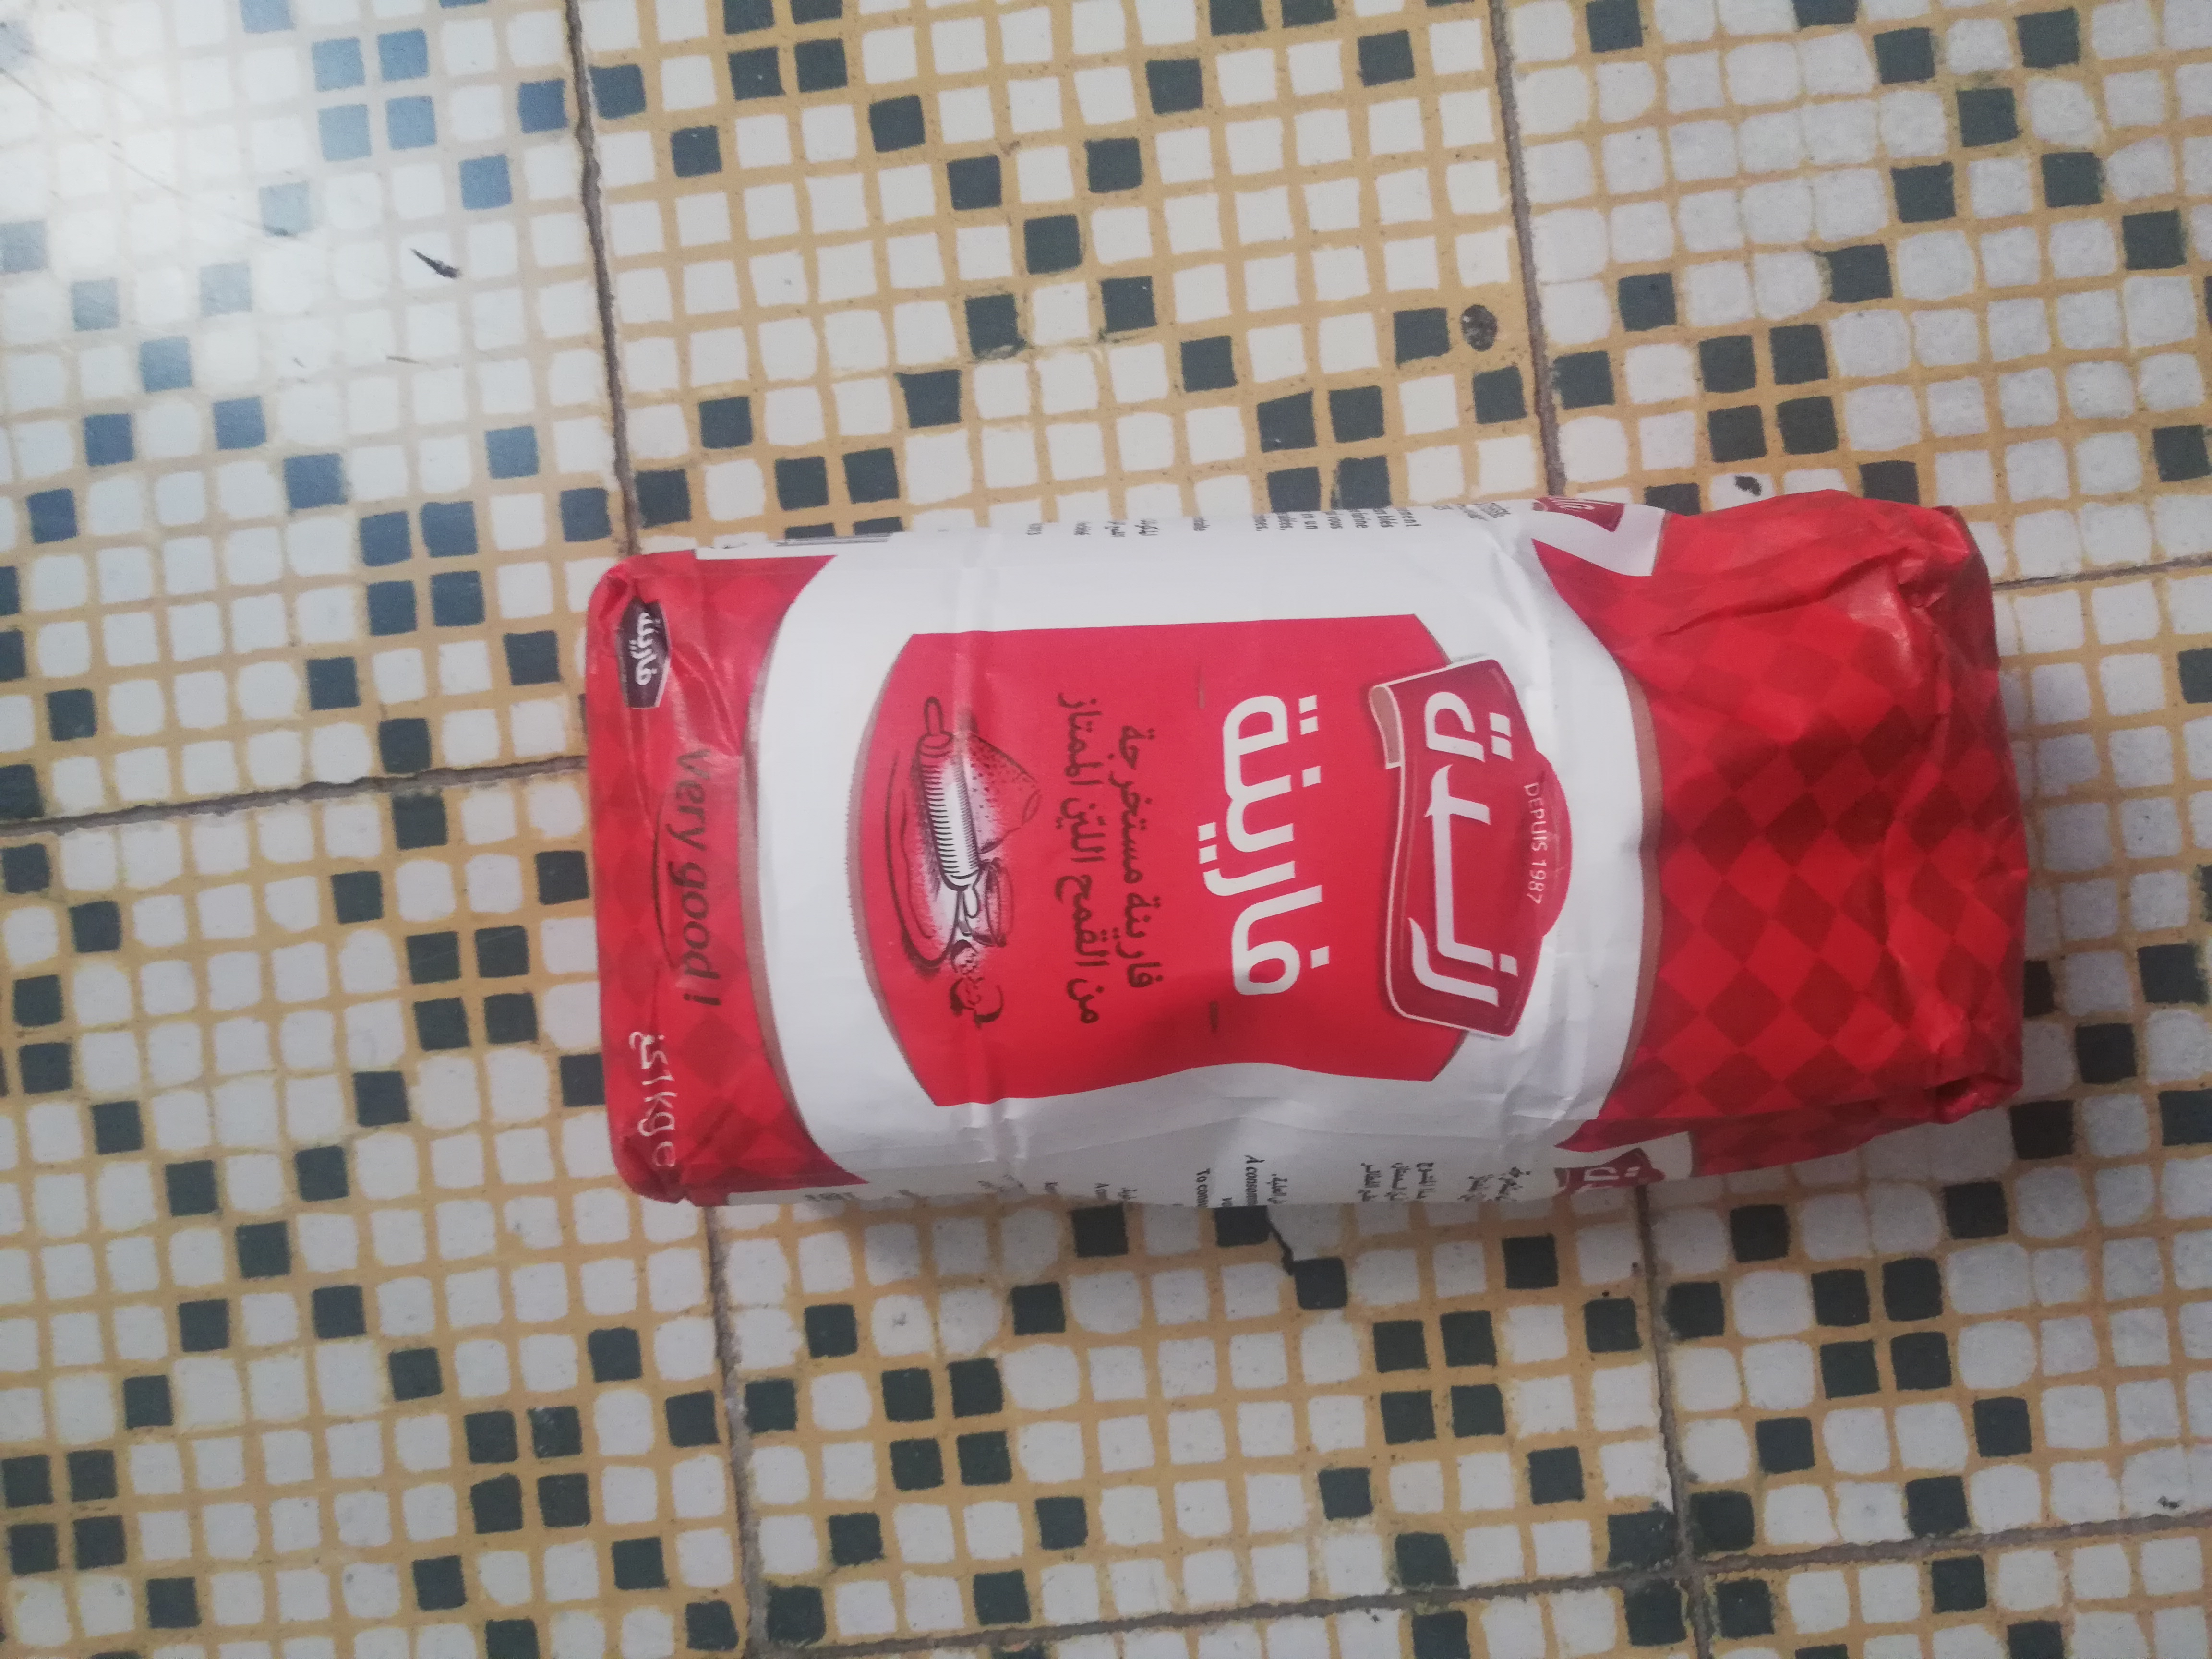Farine Randa: (589, 493, 2031, 1211)
